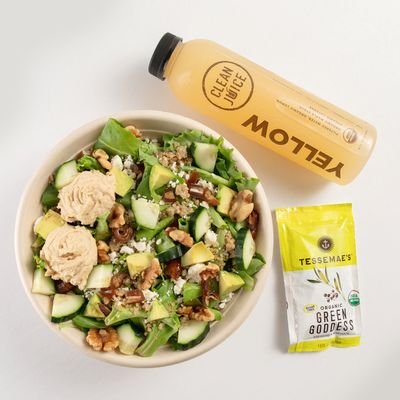sushi: (16, 115, 272, 366)
